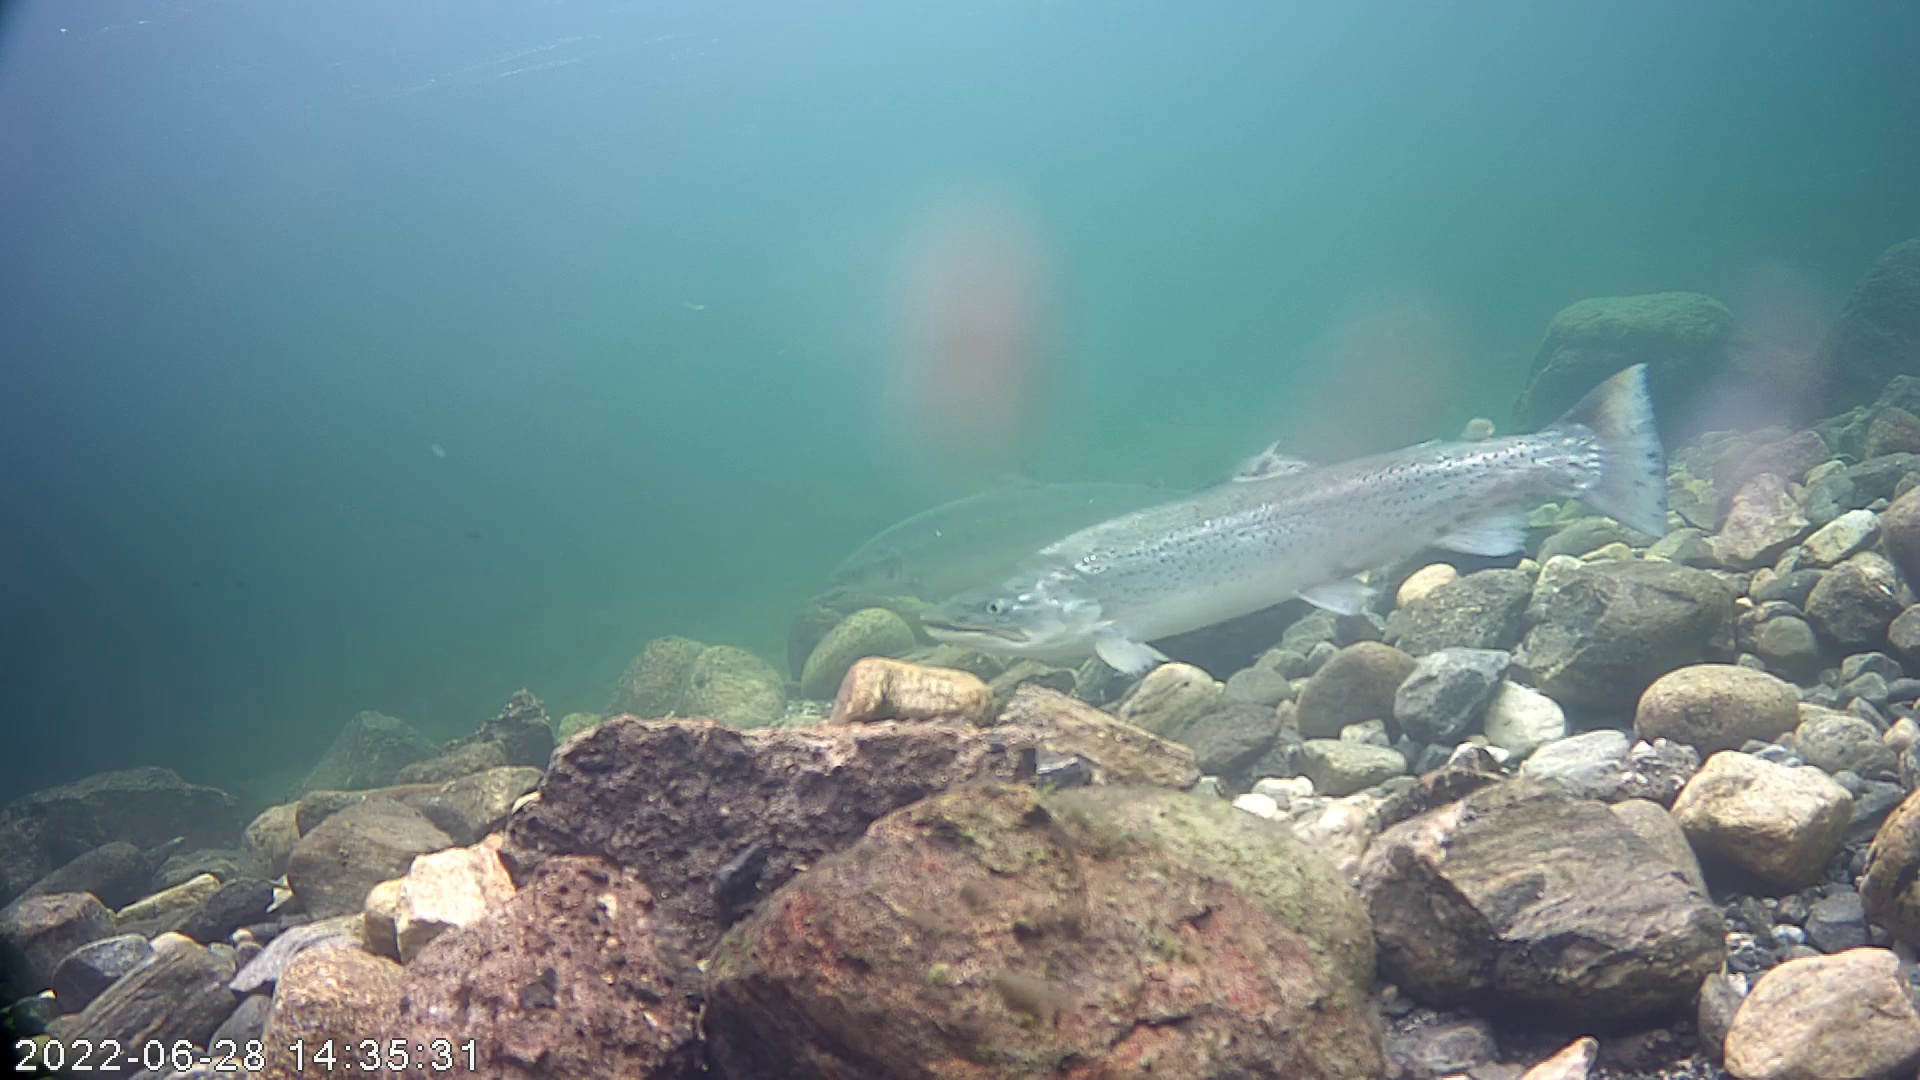salmon: (819, 276, 1706, 680)
